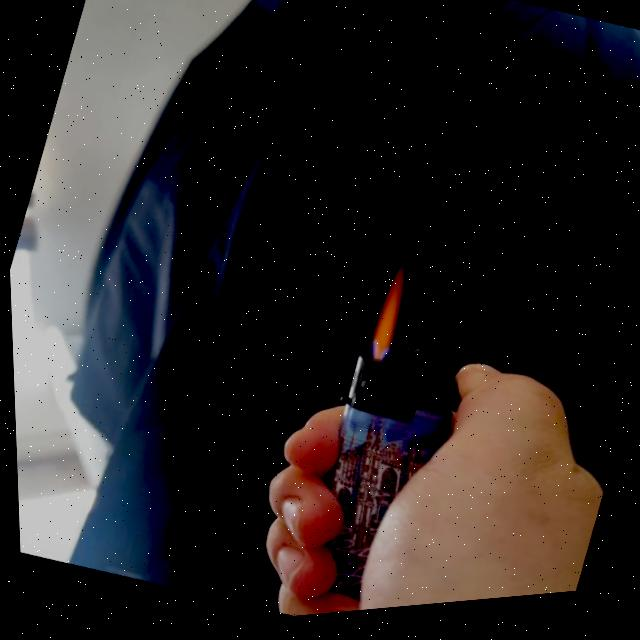Fire: (360, 260, 420, 367)
